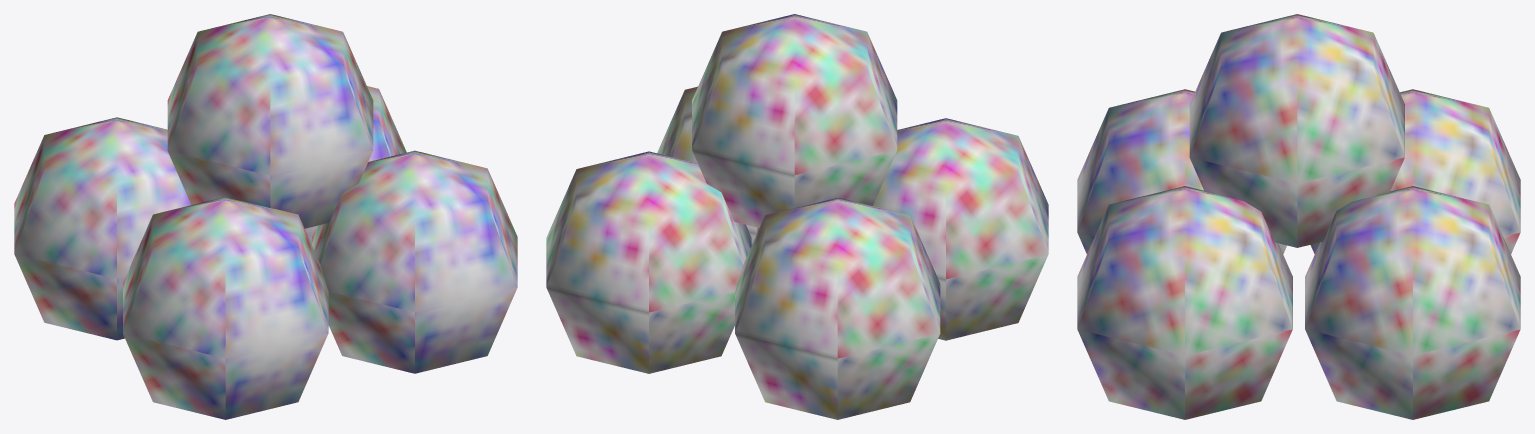
Rendered from JawBreaker.fbx.
The picture shows the model from 3 angles, left to right: view 1: azimuth 30°, elevation 25°; view 2: azimuth 150°, elevation 25°; view 3: azimuth 270°, elevation 25°; orthographic projection. The views are drawn at different scales.
Visible parts, largest first — view 1: Jawbreaker; view 2: Jawbreaker; view 3: Jawbreaker.
Boxes of the visible parts, x1,y1,x2,y2 form: Jawbreaker: (14, 14, 517, 419); Jawbreaker: (546, 14, 1048, 419); Jawbreaker: (1077, 14, 1520, 419).
Size of the model in its own units: 34.96 by 28.34 by 32.43.
